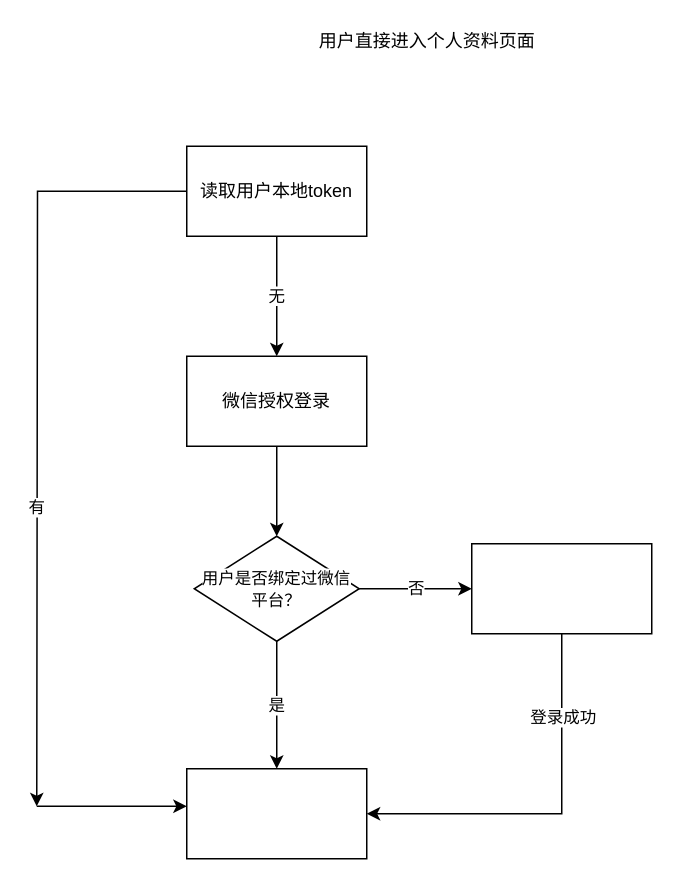
Some shapes in this 678 by 885 pixel diagram are drawn without their labels. The shapes that lost their labels are listed below. From the top down, each one's box as (x1, y1, x2, y2) in pixels, then its label:
(470, 542, 652, 634): 进入登录页登录
(185, 767, 367, 859): 进入个人资料页
